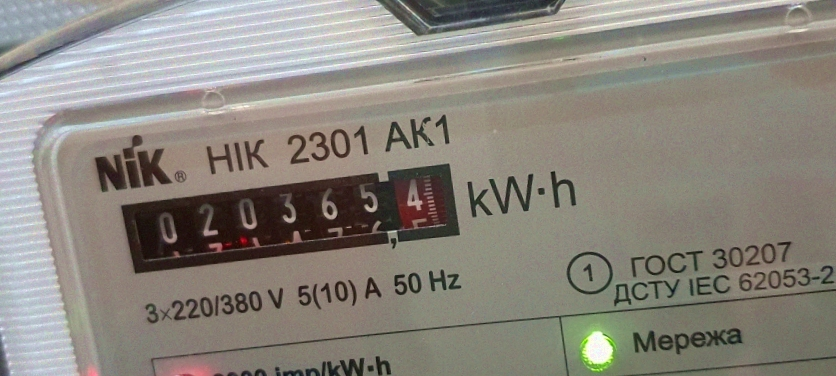0: (156, 209, 179, 244), (237, 194, 258, 232)
2: (194, 200, 219, 238)
3: (277, 188, 298, 225)
4: (403, 176, 424, 212)
5: (357, 180, 380, 214)
6: (317, 184, 339, 222)
screen: (103, 151, 479, 284)
